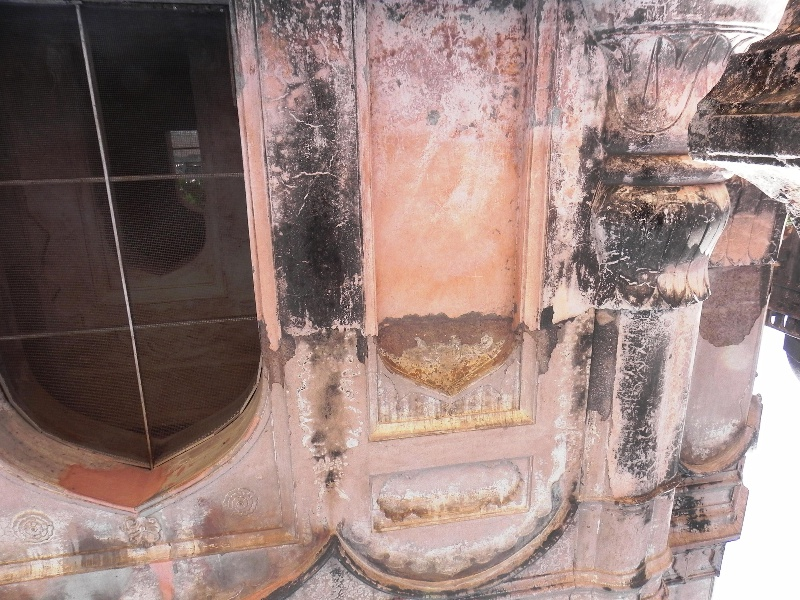Spalling: (696, 256, 773, 352), (374, 307, 522, 353), (532, 305, 562, 387)
